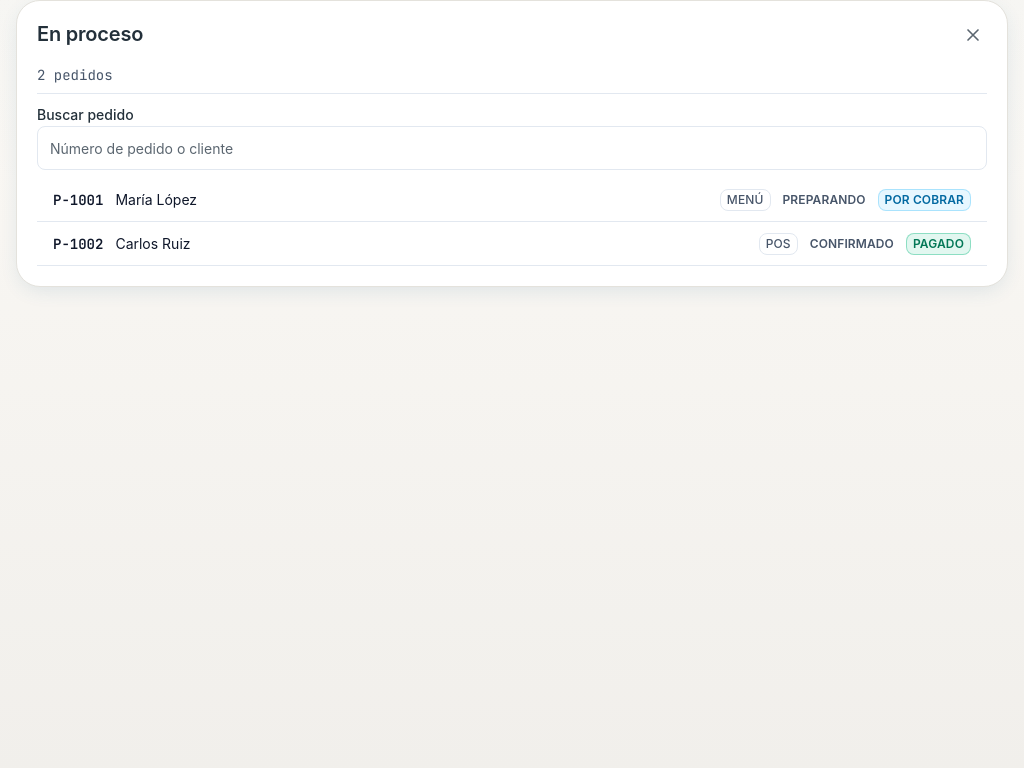
Test case: PosOperationalPanel › busca por número de pedido
This screenshot has width=1024, height=768.
Type "1002" into the field labelled "Buscar pedido" at (512, 148), box [37, 126, 987, 170]
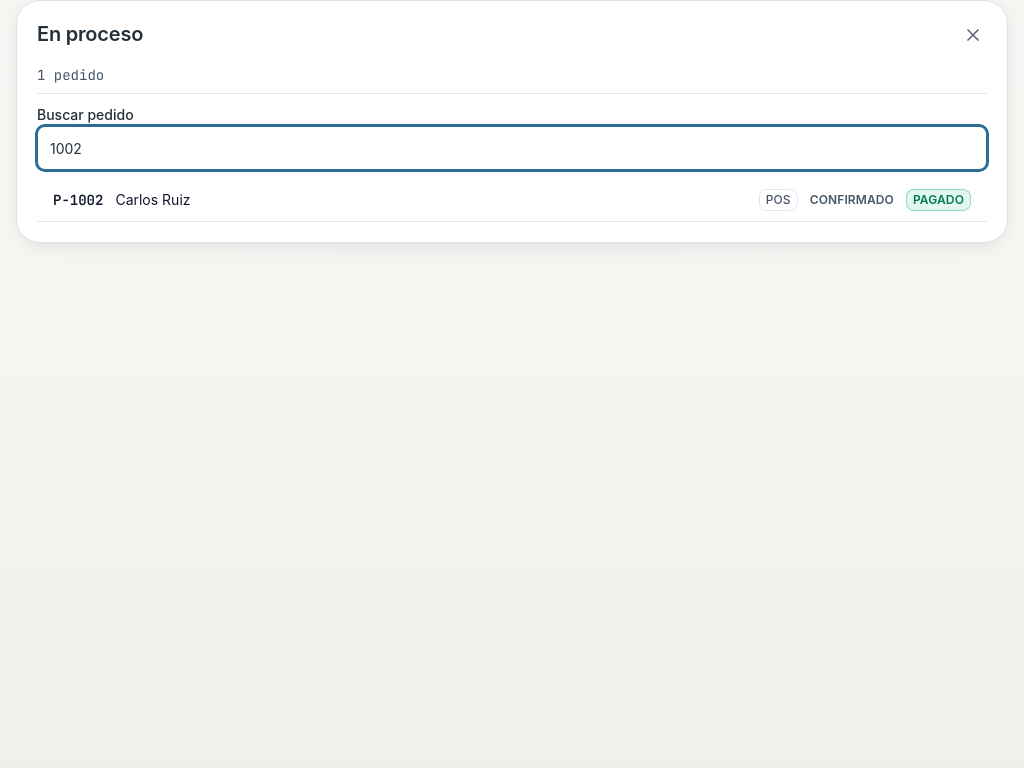
Expected: the text "P-1002" is shown, [53, 190, 103, 210]
Expected: the number of buttons with test id "pos-operational-row" is 1, [37, 178, 987, 222]
Expected: the button "P-1001" is gone
